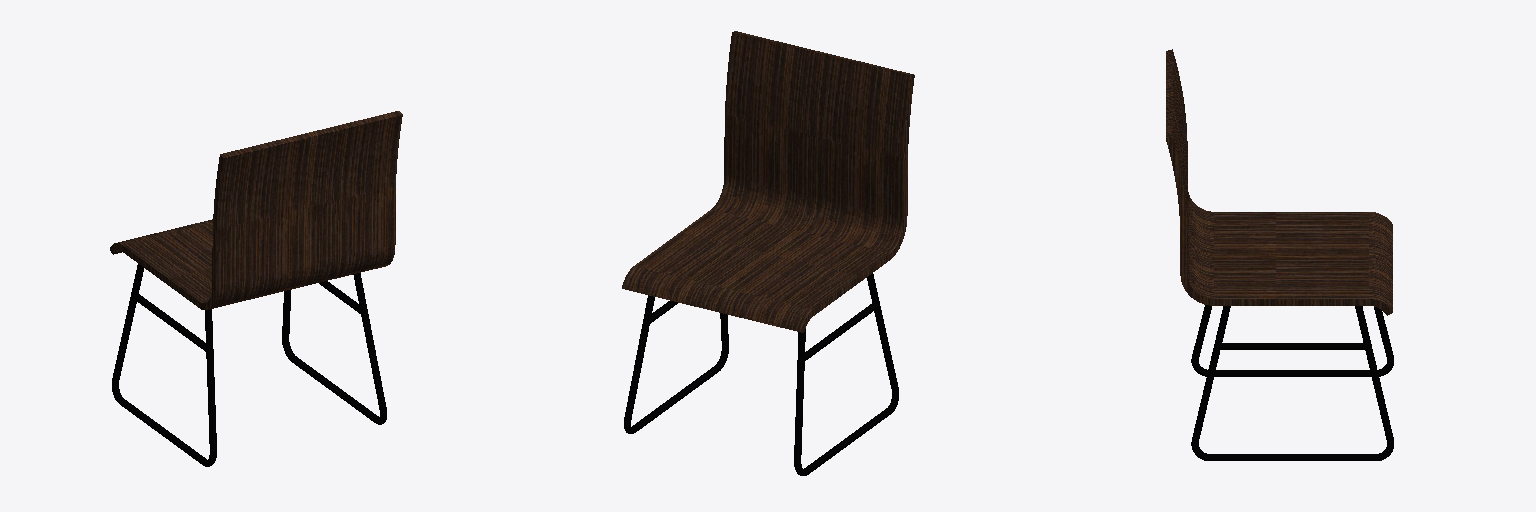
The picture shows the model from 3 angles: view 1: azimuth 30°, elevation 25°; view 2: azimuth 150°, elevation 25°; view 3: azimuth 270°, elevation 25°; orthographic projection.
Parts seen in each view (by area): view 1: mesh7_mesh7-geometry, mesh2_mesh2-geometry, mesh1_mesh1-geometry, mesh4_mesh4-geometry; view 2: mesh7_mesh7-geometry, mesh2_mesh2-geometry, mesh1_mesh1-geometry, mesh4_mesh4-geometry; view 3: mesh7_mesh7-geometry, mesh1_mesh1-geometry, mesh2_mesh2-geometry, mesh3_mesh3-geometry.
Boxes of the visible parts, x1,y1,x2,y2 form: mesh7_mesh7-geometry: [110, 111, 402, 309]; mesh2_mesh2-geometry: [112, 264, 216, 466]; mesh1_mesh1-geometry: [282, 273, 386, 424]; mesh4_mesh4-geometry: [132, 293, 206, 351]; mesh7_mesh7-geometry: [622, 31, 914, 332]; mesh2_mesh2-geometry: [794, 273, 898, 475]; mesh1_mesh1-geometry: [624, 295, 728, 433]; mesh4_mesh4-geometry: [804, 303, 879, 360]; mesh7_mesh7-geometry: [1166, 49, 1392, 315]; mesh1_mesh1-geometry: [1191, 306, 1393, 460]; mesh2_mesh2-geometry: [1191, 305, 1393, 376]; mesh3_mesh3-geometry: [1218, 343, 1367, 349].
Size of the model in its own units: 0.4371 by 0.7586 by 0.4832.
2 materials, 1 textured.